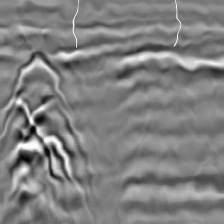Utility: (0, 49, 94, 222)
